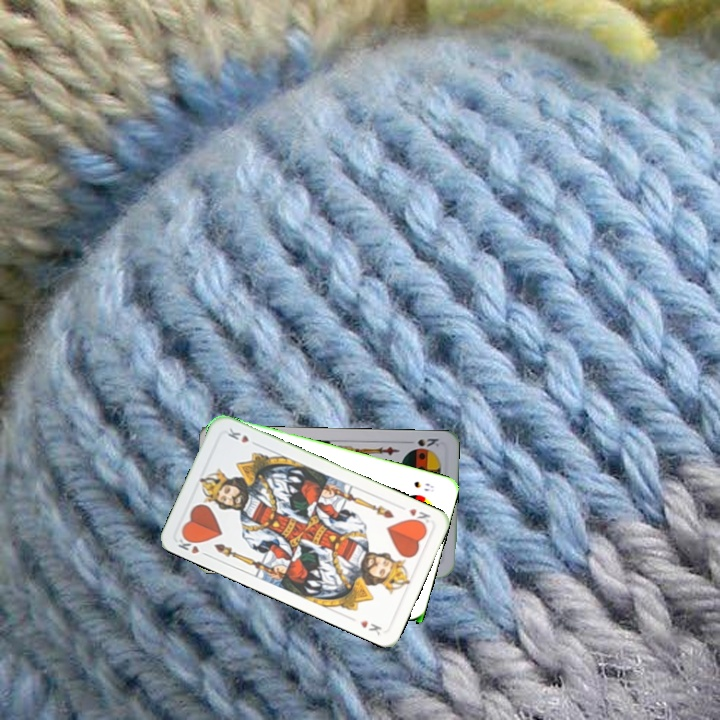HK: (173, 531, 212, 559), (405, 504, 433, 529)
S8: (410, 477, 436, 494)
SK: (402, 434, 442, 450)
